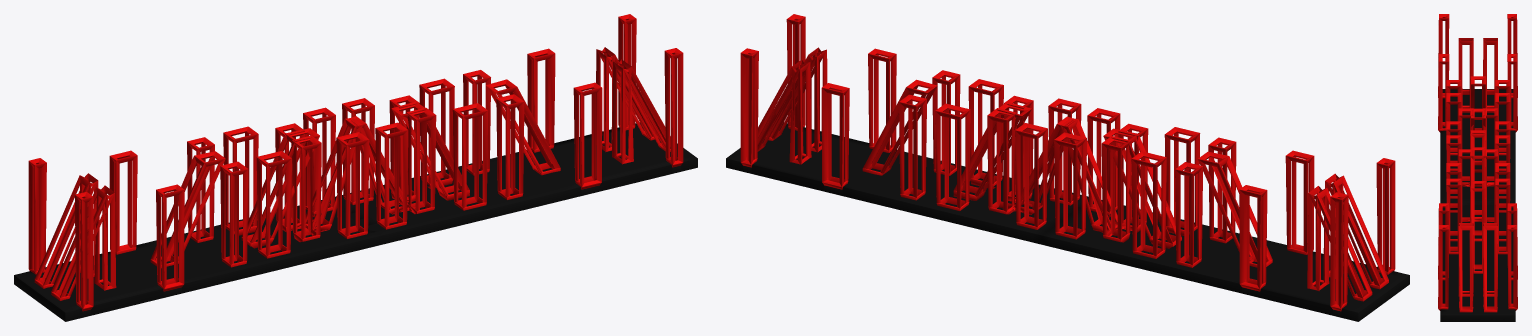
Rendered from wild.fbx.
3 views of the same model, side by side, from view 1: azimuth 30°, elevation 25°; view 2: azimuth 150°, elevation 25°; view 3: azimuth 270°, elevation 25° (orthographic). The views are drawn at different scales.
Parts seen in each view (by area): view 1: Cube; view 2: Cube; view 3: Cube.
Boxes of the visible parts, <box> form: Cube: <box>14,14,697,321</box>; Cube: <box>726,14,1409,321</box>; Cube: <box>1438,14,1517,321</box>.
Bounding box in the file's own units: 1420 × 256 × 212.
